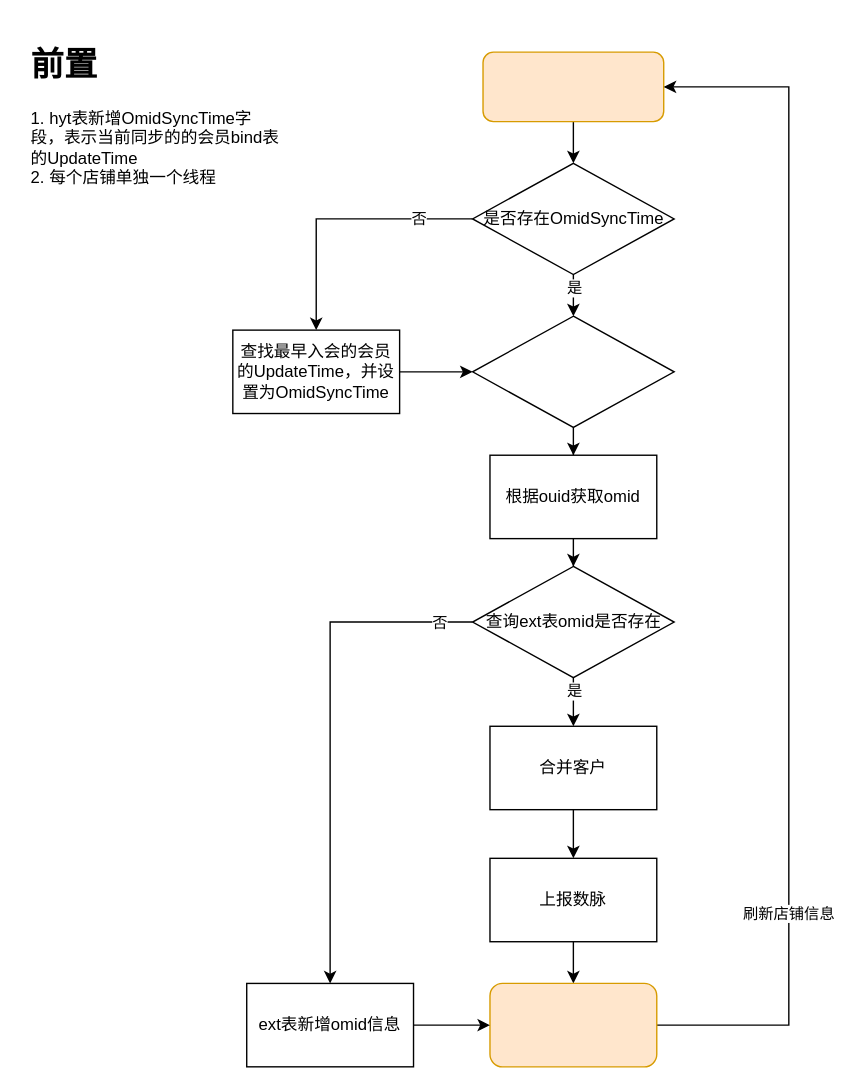
Some shapes in this 858 by 1091 pixel diagram are drawn without their labels. The shapes that lost their labels are listed below. From the top down, each one's box as (x1, y1, x2, y2) in pixels, then its label:
(482, 51, 664, 122): 获取所有商业主题店铺
(471, 315, 674, 427): 增量10秒获取ouid
(489, 982, 657, 1067): 更新OmidSyncTime
